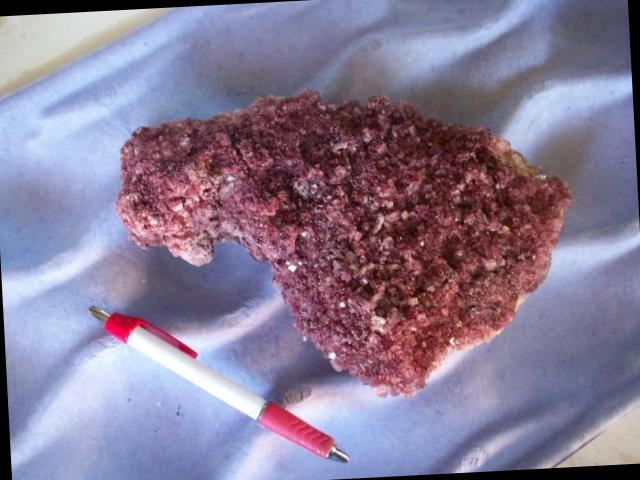PEN: (56, 281, 371, 480)
